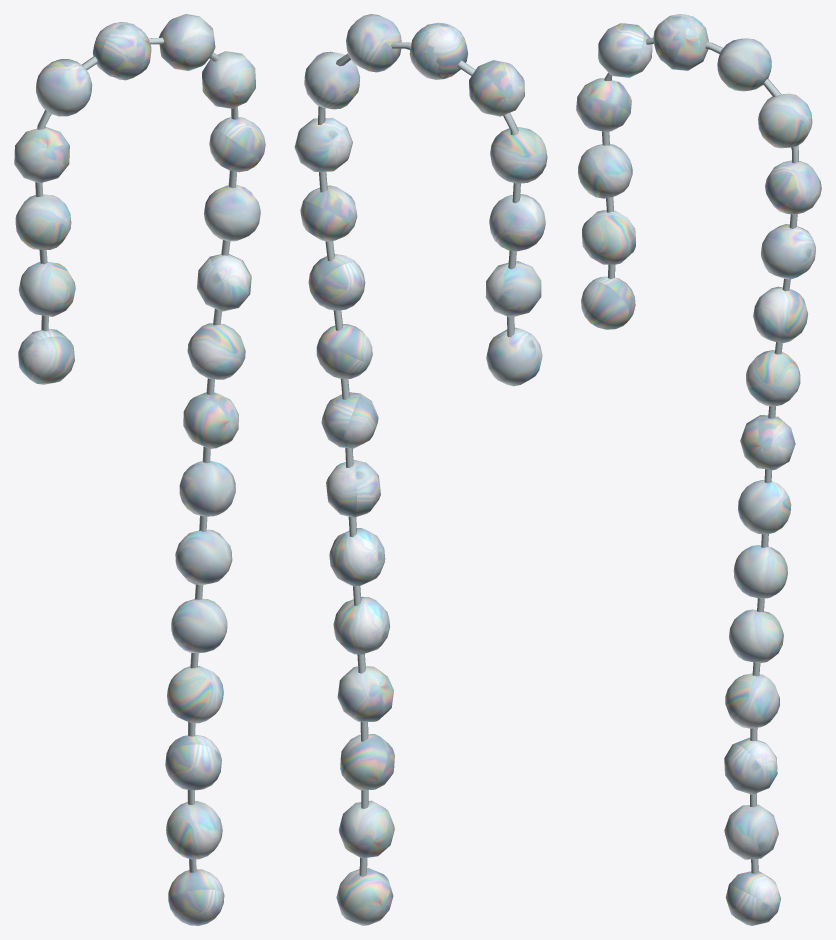
The model's file is bead.glb.
3 renders of one model, left to right at view 1: azimuth 30°, elevation 25°; view 2: azimuth 150°, elevation 25°; view 3: azimuth 330°, elevation 25°, orthographic. The views are drawn at different scales.
Visible parts, largest first — view 1: BézierCurve.003, GN Instance, Sphere; view 2: BézierCurve.003, GN Instance, Sphere; view 3: BézierCurve.003, GN Instance, Sphere.
Boxes of the visible parts, left/top/right/bottom form: BézierCurve.003: left=14, top=14, right=265, bottom=925; GN Instance: left=35, top=37, right=238, bottom=872; Sphere: left=93, top=22, right=149, bottom=77; BézierCurve.003: left=294, top=14, right=547, bottom=925; GN Instance: left=318, top=42, right=520, bottom=876; Sphere: left=411, top=22, right=468, bottom=78; BézierCurve.003: left=576, top=16, right=821, bottom=925; GN Instance: left=602, top=37, right=798, bottom=873; Sphere: left=653, top=14, right=708, bottom=62.
Bounding box in the file's own units: 0.0577 × 0.2059 × 0.0119.
1 material, 1 textured.
